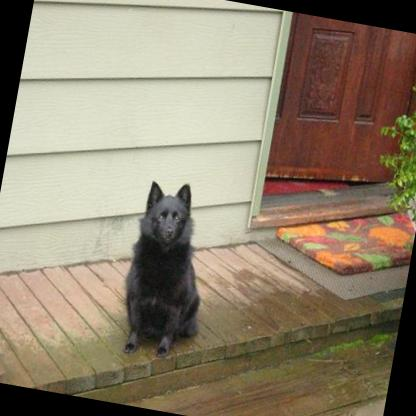schipperke: (112, 174, 221, 361)
